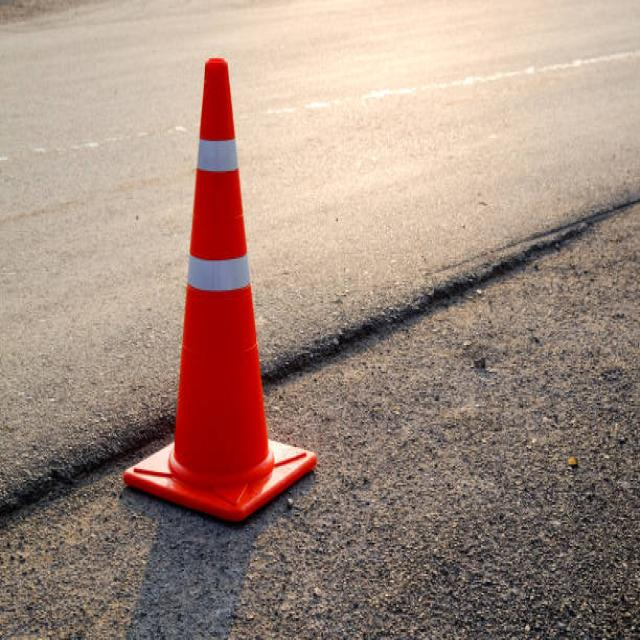Traffic Cone: (101, 24, 338, 546)
